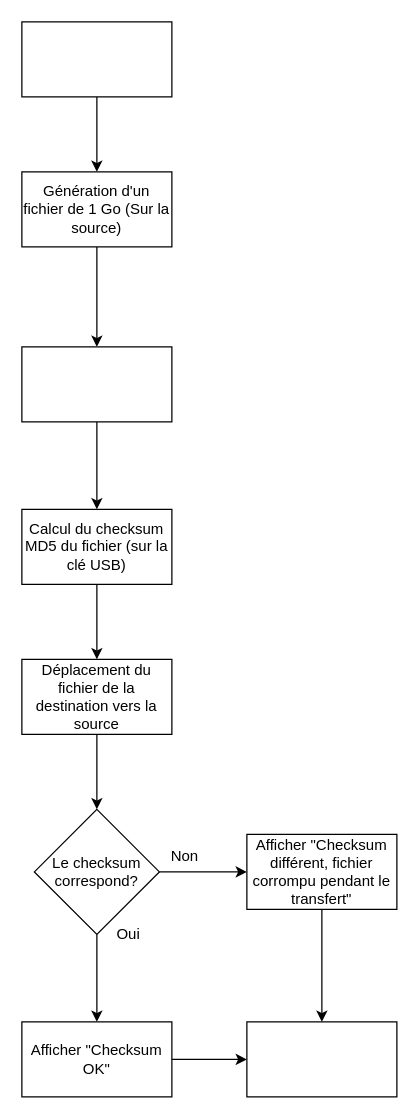
This 419x1119 diagram has some shape labels left out. The shapes that lost their labels are listed below. From the top down, each one's box as (x1, y1, x2, y2) in pixels, then its label:
(21, 21, 172, 97): Start
(21, 346, 172, 422): Déplacement du fichier de la source vers la destination
(246, 1021, 397, 1097): Fin du script
